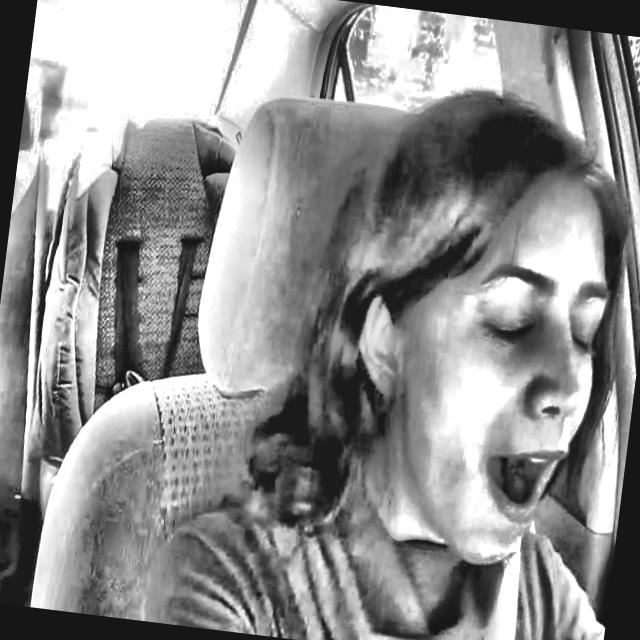closed_eyes: (464, 287, 544, 355), (559, 301, 612, 367)
open_mouth: (462, 435, 582, 537)
